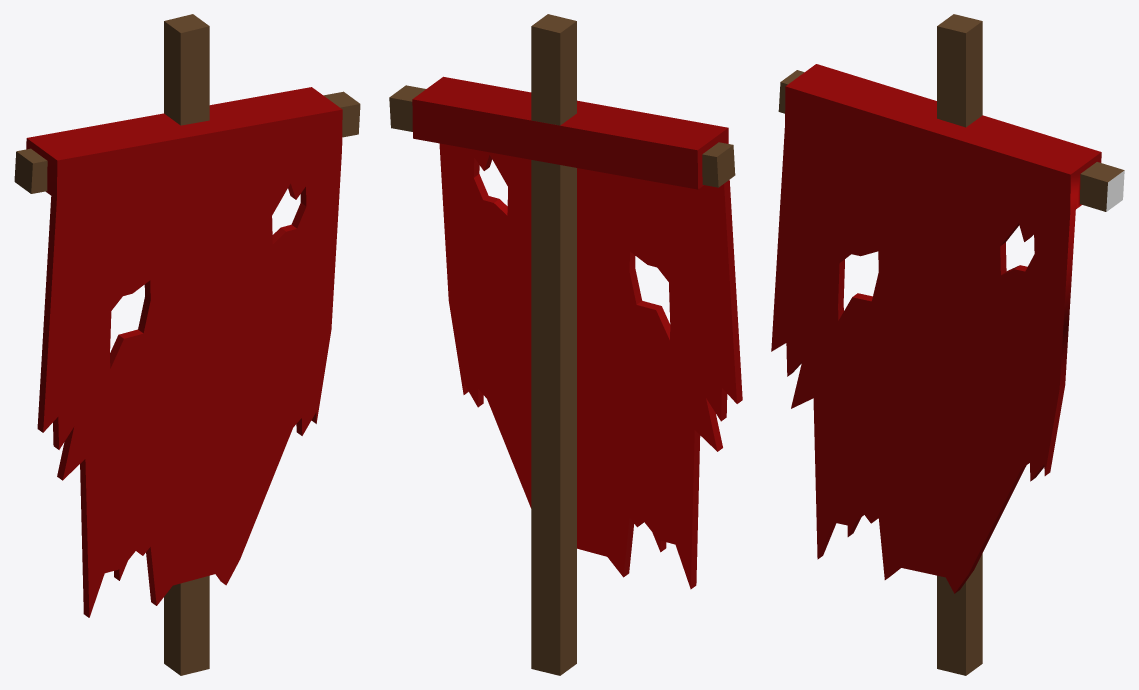
Rendered from Prop_Banner_Torn_Red_01.fbx.
The picture shows the model from 3 angles, left to right: view 1: azimuth 30°, elevation 25°; view 2: azimuth 150°, elevation 25°; view 3: azimuth 330°, elevation 25°; orthographic projection.
Visible parts, largest first — view 1: Prop_Banner_Torn_Red_01; view 2: Prop_Banner_Torn_Red_01; view 3: Prop_Banner_Torn_Red_01.
Part boxes in pixels (left/top/right/bottom): Prop_Banner_Torn_Red_01: left=14, top=14, right=360, bottom=675; Prop_Banner_Torn_Red_01: left=389, top=14, right=742, bottom=675; Prop_Banner_Torn_Red_01: left=771, top=14, right=1124, bottom=675.
Size of the model in its own units: 62.25 by 116 by 10.09.
